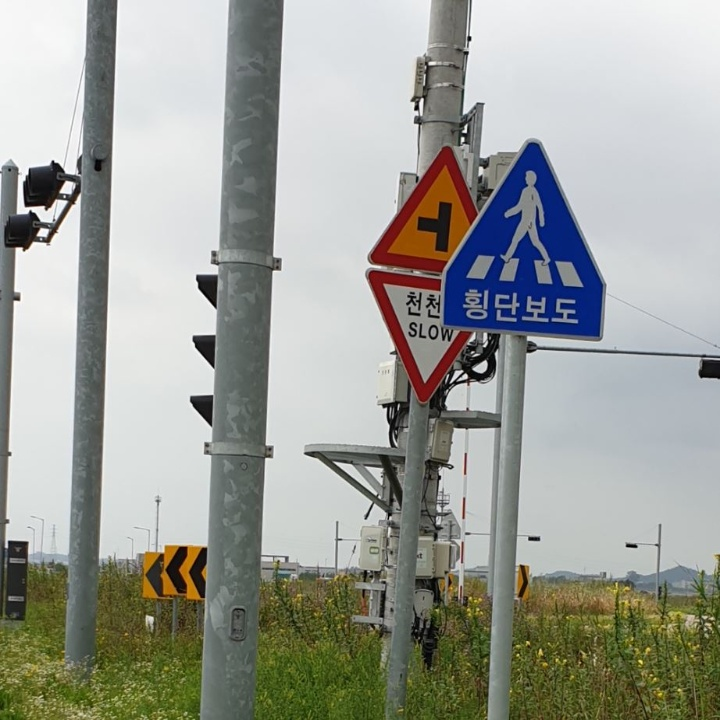cross: (493, 154, 563, 276)
